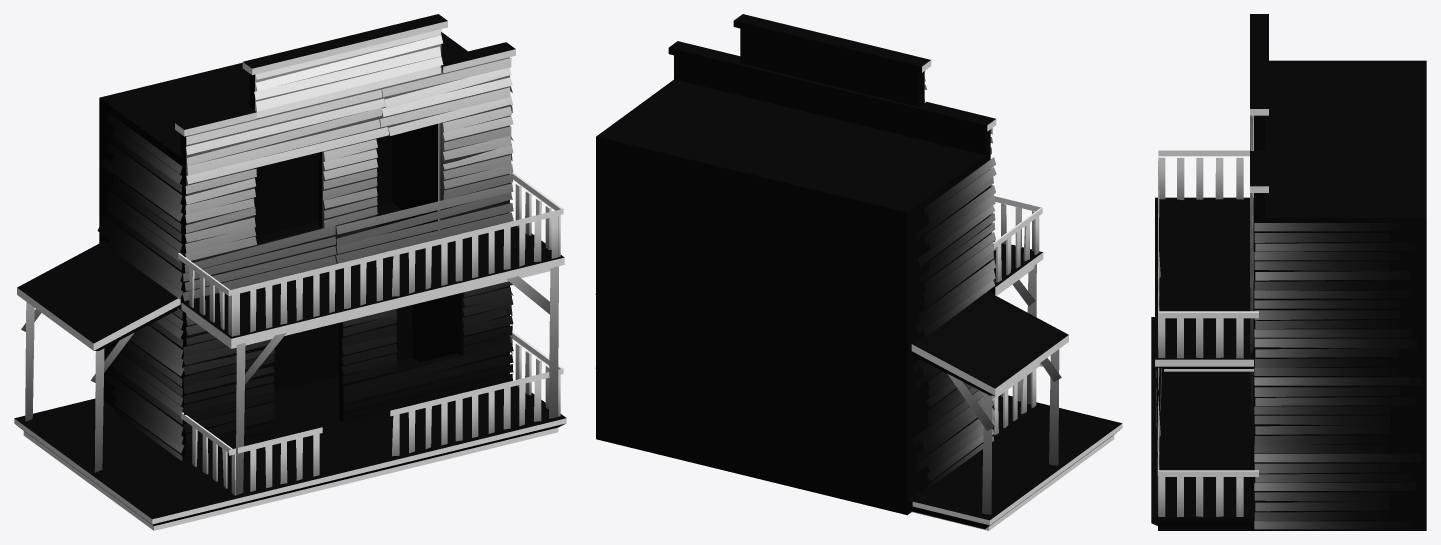
The model's file is Building4.glb.
3 renders of one model, left to right at view 1: azimuth 30°, elevation 25°; view 2: azimuth 150°, elevation 25°; view 3: azimuth 270°, elevation 25°, orthographic. The views are drawn at different scales.
Visible parts, largest first — view 1: Building4; view 2: Building4; view 3: Building4.
Boxes of the visible parts, x1,y1,x2,y2 form: Building4: (14, 14, 566, 530); Building4: (595, 14, 1122, 530); Building4: (1151, 14, 1426, 530).
Bounding box in the file's own units: 12.31 × 11.12 × 7.09.
Materials: 1 (1 with a texture image).
